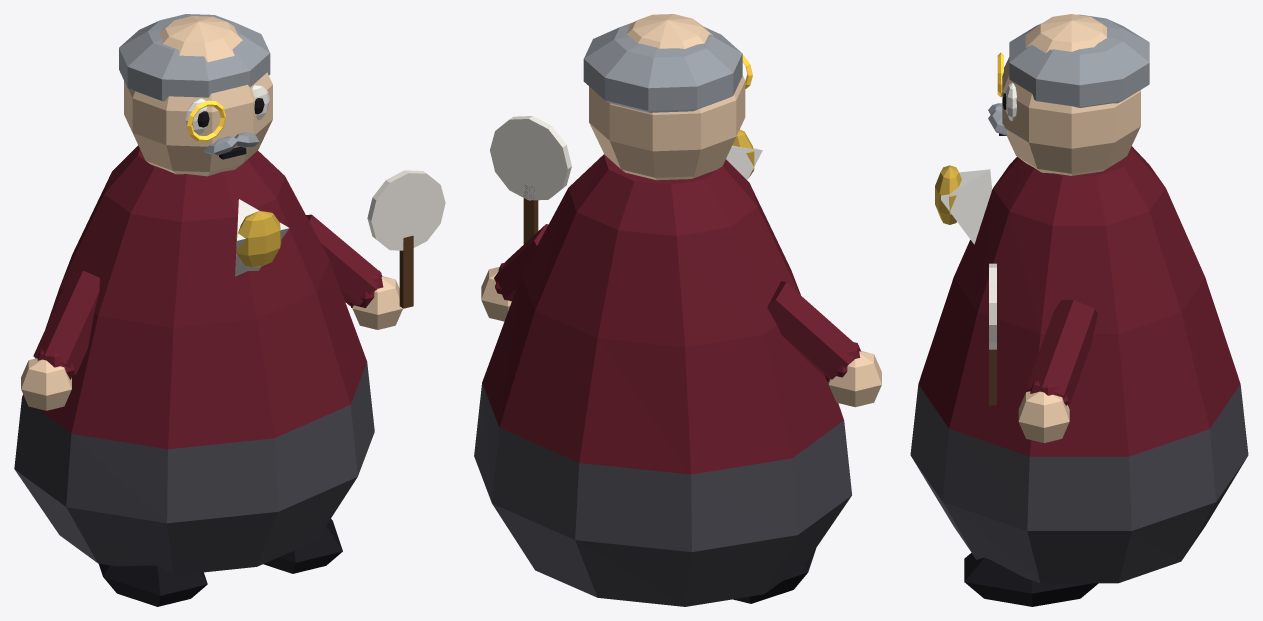
The model's file is npc_comprador.glb.
3 renders of one model, left to right at view 1: azimuth 30°, elevation 25°; view 2: azimuth 150°, elevation 25°; view 3: azimuth 270°, elevation 25°, orthographic. The views are drawn at different scales.
Visible parts, largest first — view 1: body_velvet_burgundy, body_pants_grey, head_skin_crema, head_hair_gray, arms_velvet_burgundy, legs_black, props_paddle_white, arms_skin_crema, body_cravat_gold, props_paddle_handle, body_white, face_hair_gray (+2 smaller); view 2: body_velvet_burgundy, body_pants_grey, head_skin_crema, head_hair_gray, arms_velvet_burgundy, props_paddle_white, arms_skin_crema, legs_black, body_white, props_paddle_handle; view 3: body_velvet_burgundy, body_pants_grey, head_skin_crema, head_hair_gray, arms_velvet_burgundy, legs_black, arms_skin_crema, body_white, body_cravat_gold, props_paddle_white, props_paddle_handle.
Part boxes in pixels (<box>): body_velvet_burgundy: <box>22,145,366,449</box>; body_pants_grey: <box>14,362,374,574</box>; head_skin_crema: <box>124,16,272,176</box>; head_hair_gray: <box>119,14,270,101</box>; arms_velvet_burgundy: <box>33,214,383,379</box>; legs_black: <box>99,519,342,606</box>; props_paddle_white: <box>367,170,445,250</box>; arms_skin_crema: <box>21,276,402,410</box>; body_cravat_gold: <box>236,211,281,267</box>; props_paddle_handle: <box>399,235,413,308</box>; body_white: <box>235,199,289,276</box>; face_hair_gray: <box>204,132,258,155</box>; body_velvet_burgundy: <box>482,154,843,474</box>; body_pants_grey: <box>474,383,851,606</box>; head_skin_crema: <box>589,14,745,180</box>; head_hair_gray: <box>583,22,742,112</box>; arms_velvet_burgundy: <box>494,224,860,381</box>; props_paddle_white: <box>490,116,571,200</box>; arms_skin_crema: <box>481,266,881,407</box>; legs_black: <box>733,548,816,603</box>; body_white: <box>726,145,762,179</box>; props_paddle_handle: <box>523,185,538,244</box>; body_velvet_burgundy: <box>918,146,1240,456</box>; body_pants_grey: <box>910,384,1248,583</box>; head_skin_crema: <box>1002,14,1140,175</box>; head_hair_gray: <box>1009,14,1149,107</box>; arms_velvet_burgundy: <box>1026,300,1097,405</box>; legs_black: <box>964,553,1098,606</box>; arms_skin_crema: <box>1018,391,1069,442</box>; body_white: <box>941,169,992,244</box>; body_cravat_gold: <box>935,165,961,224</box>; props_paddle_white: <box>989,263,996,349</box>; props_paddle_handle: <box>989,349,996,405</box>.
Size of the model in its own units: 1.18 by 1.53 by 0.86.
